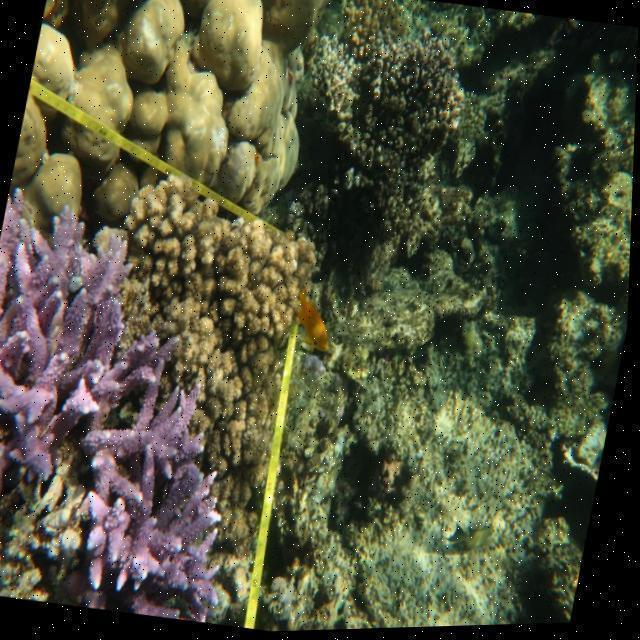Healthy Coral: (1, 185, 295, 632)
